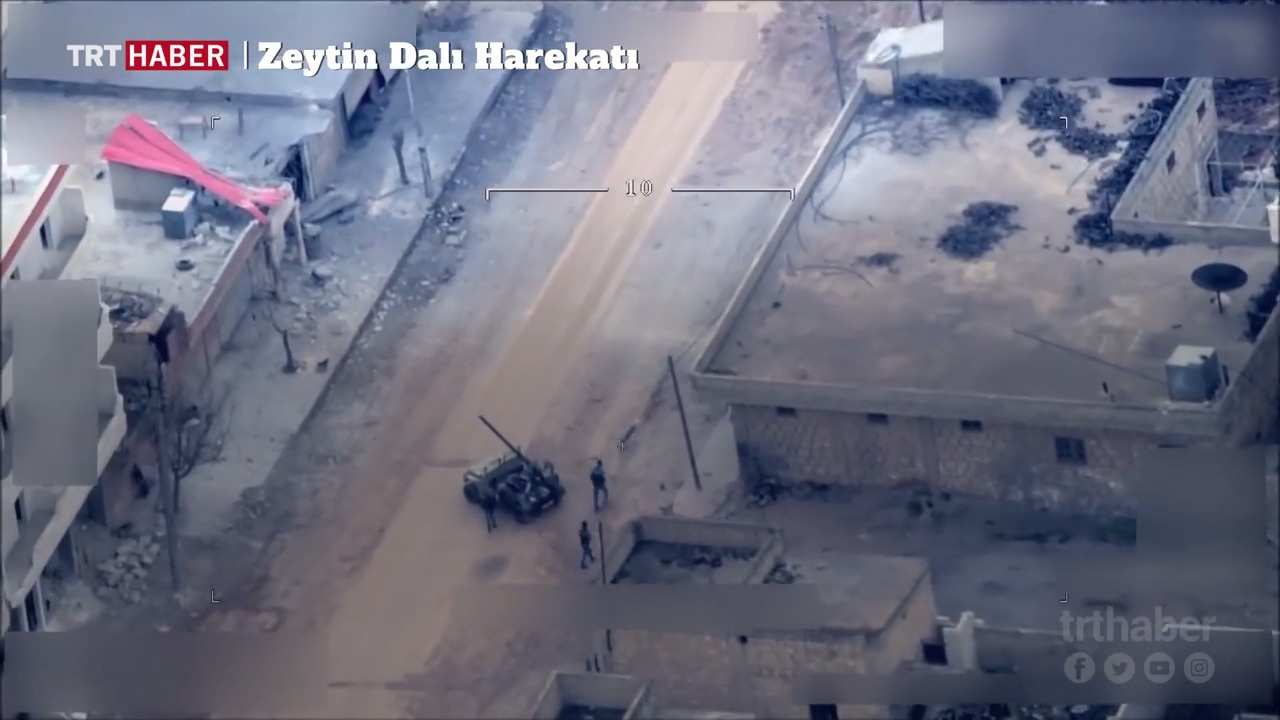arac: (461, 411, 566, 528)
insan: (474, 478, 501, 536), (576, 519, 598, 570), (591, 454, 611, 508)
